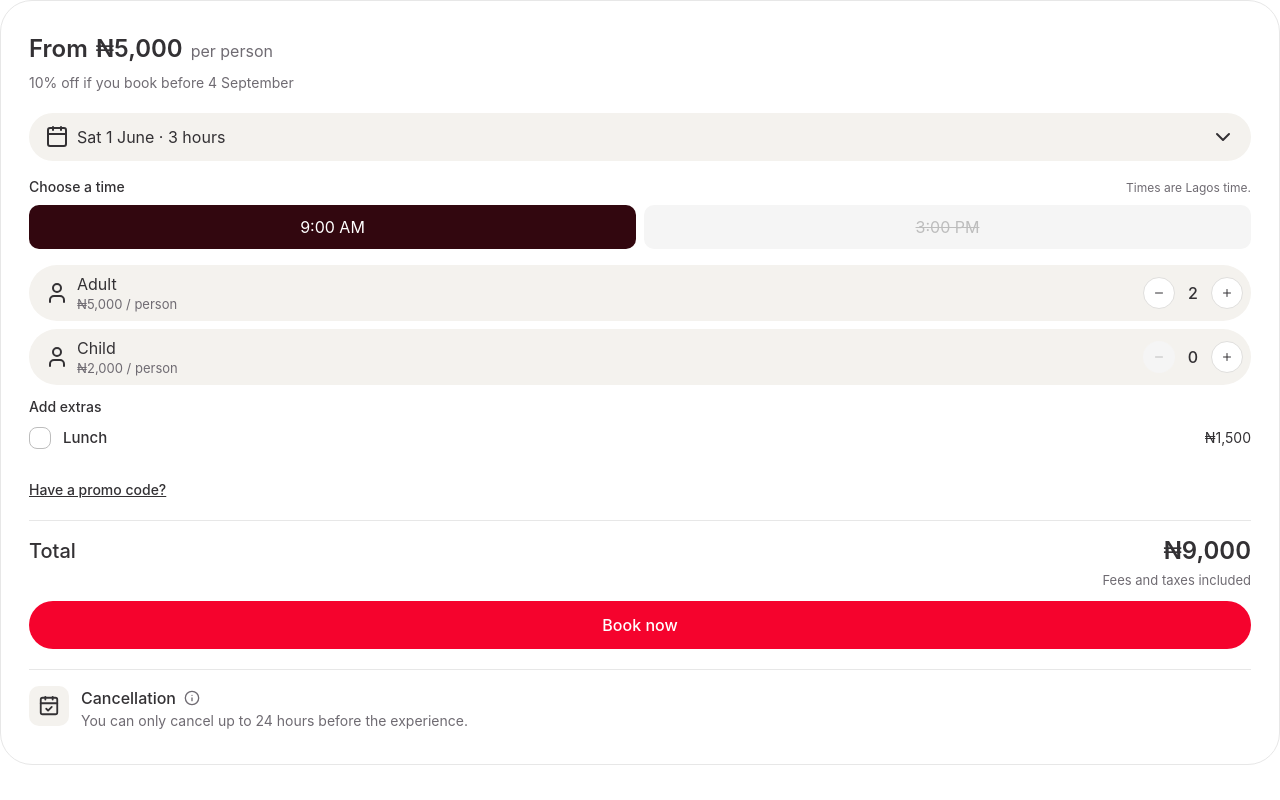
BookingPanelView › explains the experience's own policy in a tooltip next to the cancellation line
Hover over the button named "About the cancellation policy".
mouse_move(192, 698)  # box [182,688,202,708]
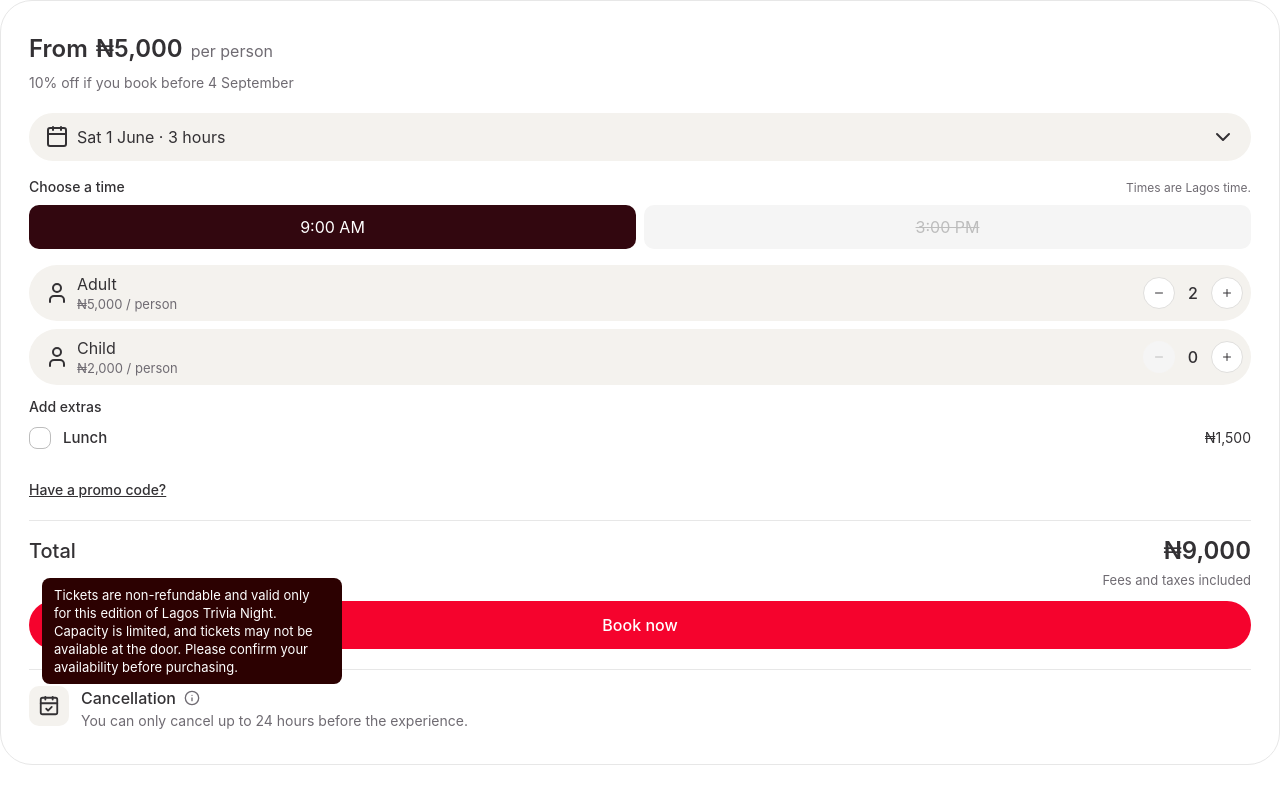
Expected: the tooltip "Tickets are non-refundable and valid only for this edition of Lagos Trivia Night" is shown, [54,587,313,675]
